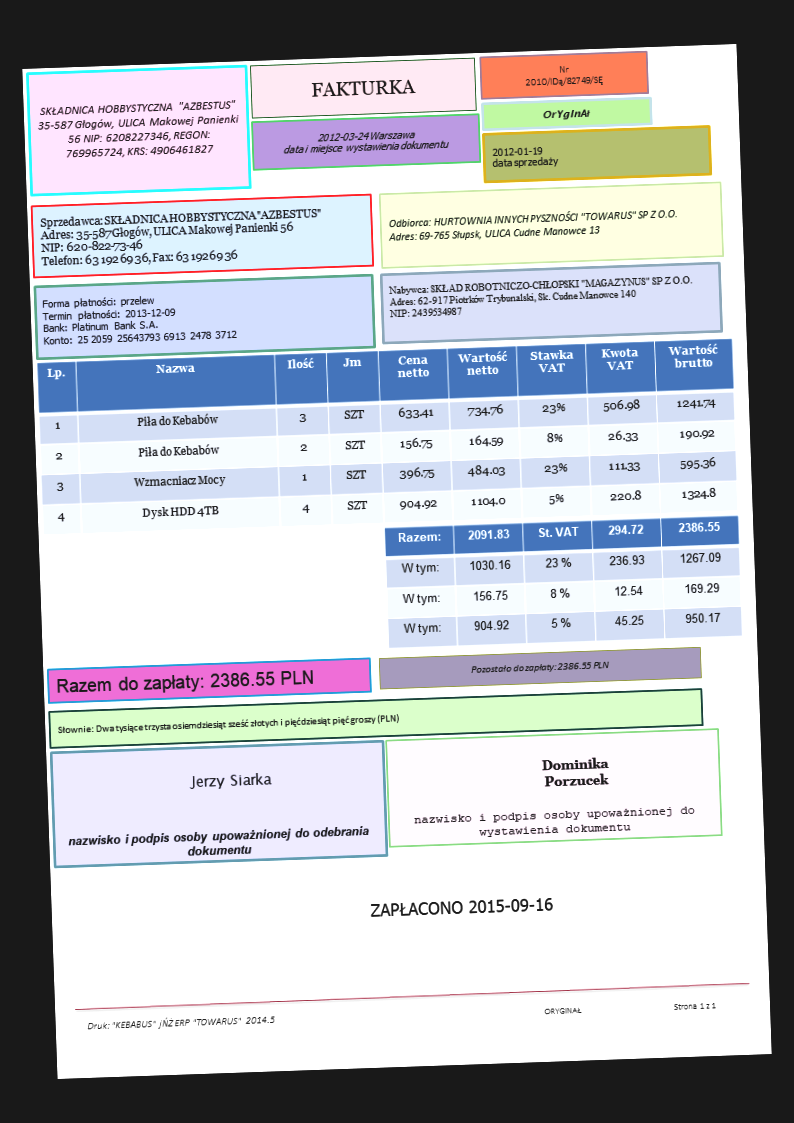Table: (35, 336, 740, 537), (382, 512, 744, 651)
TextBox: (36, 202, 327, 272), (385, 271, 695, 321), (33, 96, 243, 163), (39, 288, 241, 350), (66, 823, 373, 863), (410, 801, 699, 842), (386, 205, 680, 245), (55, 710, 403, 739), (54, 666, 315, 696), (279, 125, 452, 158), (367, 893, 558, 920), (85, 1011, 279, 1034), (540, 997, 720, 1019), (538, 753, 614, 792), (468, 657, 612, 677), (308, 75, 416, 100), (521, 60, 606, 90), (185, 768, 275, 794), (490, 141, 560, 171), (540, 103, 592, 123)
